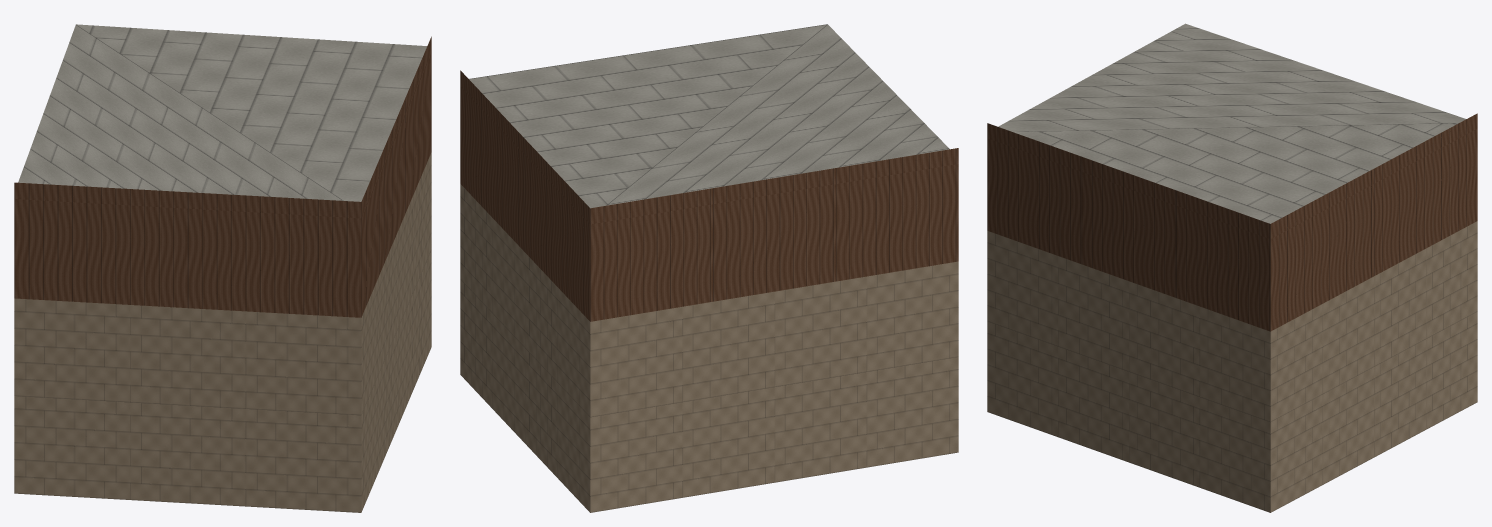
Rendered from bld_c-3_18_540.gltf.
3 views of the same model, side by side, from view 1: azimuth 30°, elevation 25°; view 2: azimuth 150°, elevation 25°; view 3: azimuth 270°, elevation 25° (orthographic). The views are drawn at different scales.
Visible parts, largest first — view 1: bld_c-3_18_540; view 2: bld_c-3_18_540; view 3: bld_c-3_18_540.
Boxes of the visible parts, left/top/right/bottom form: bld_c-3_18_540: left=14, top=24, right=431, bottom=512; bld_c-3_18_540: left=460, top=24, right=958, bottom=512; bld_c-3_18_540: left=987, top=23, right=1477, bottom=512.
Size of the model in its own units: 11.19 by 7.18 by 11.04.
4 materials, 4 textured.
